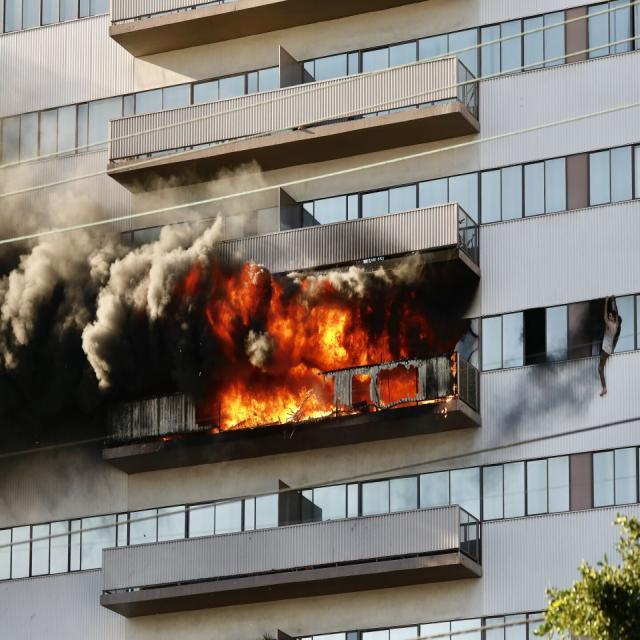Fire: (196, 252, 400, 434)
Smoke: (0, 175, 244, 429)
